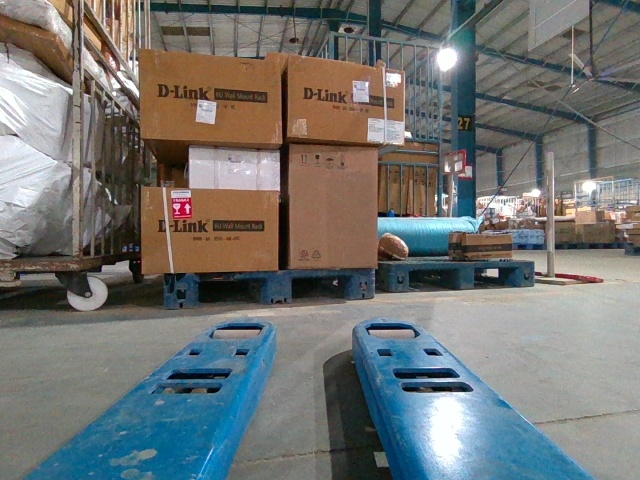block: (164, 272, 204, 309), (265, 266, 294, 305), (349, 267, 375, 302), (391, 261, 412, 292), (515, 258, 536, 286), (460, 259, 476, 290)
front: (164, 269, 376, 308), (387, 261, 532, 291)
hole pallet: (193, 276, 265, 307), (289, 272, 353, 301), (407, 266, 460, 290), (472, 267, 520, 290)
